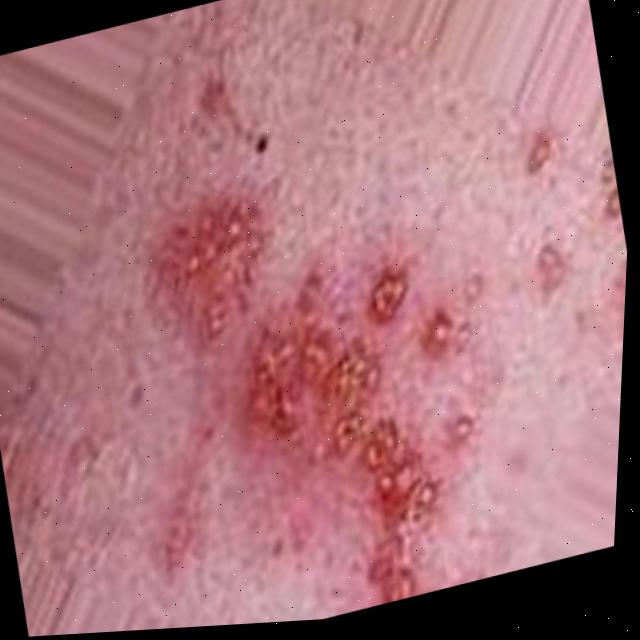Shingles: (223, 253, 500, 625), (159, 185, 270, 298)
